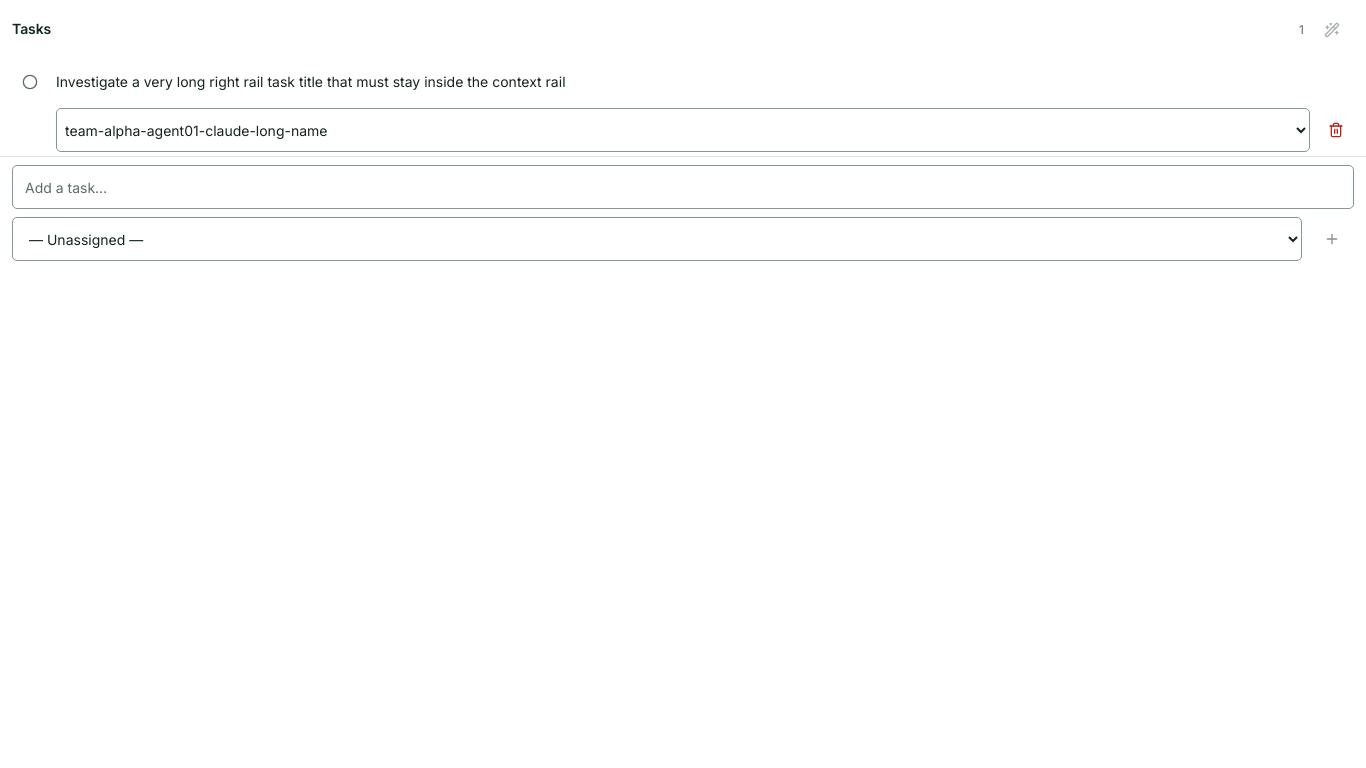
TasksSection detail dialog › saves an edited title from the dialog
Click the button with aria-label "Open Investigate a very long right rail task title that must": (311, 82) [56, 60, 1358, 104]
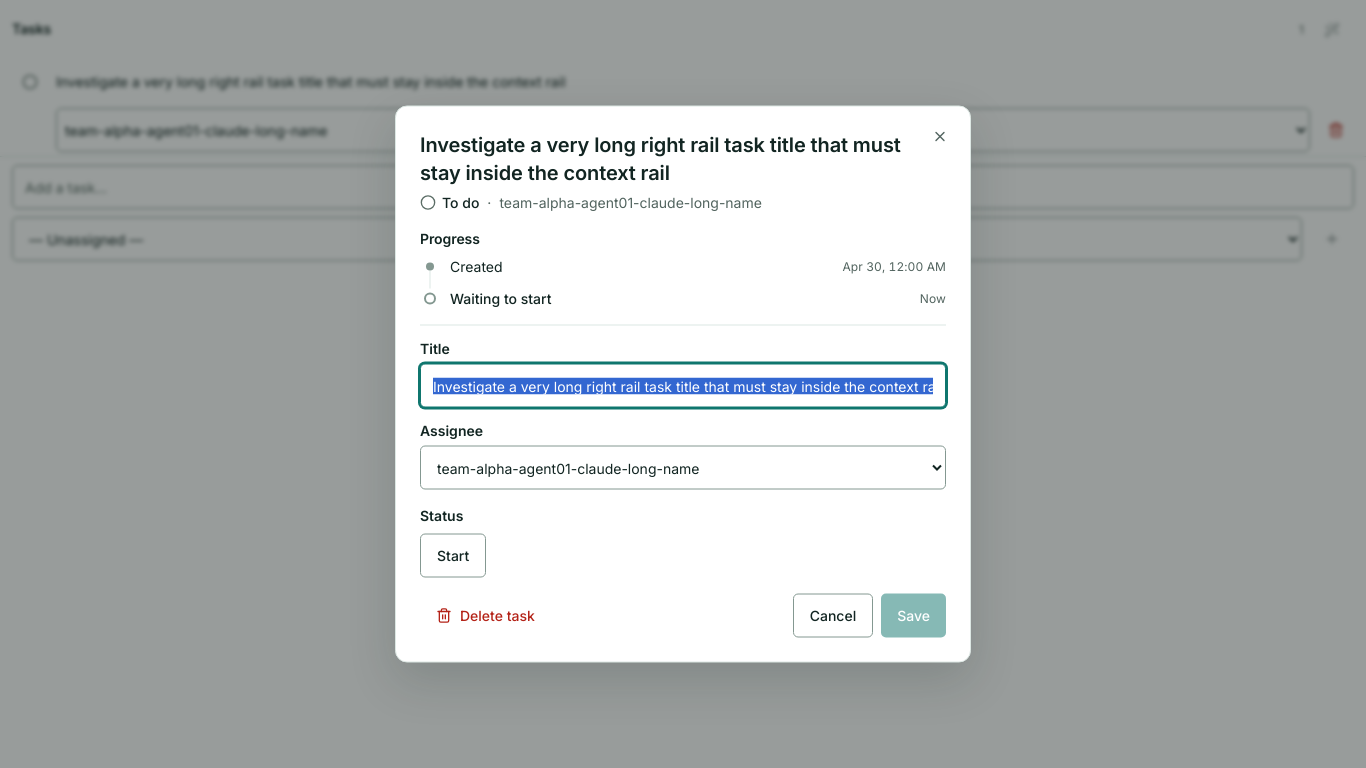
Expected: the button with test id "right-rail-task-dialog-save" is disabled, [881, 594, 946, 638]
Replace the text in the field with test id "right-rail-task-dialog-title" with "Renamed task": (683, 386) [420, 364, 946, 408]
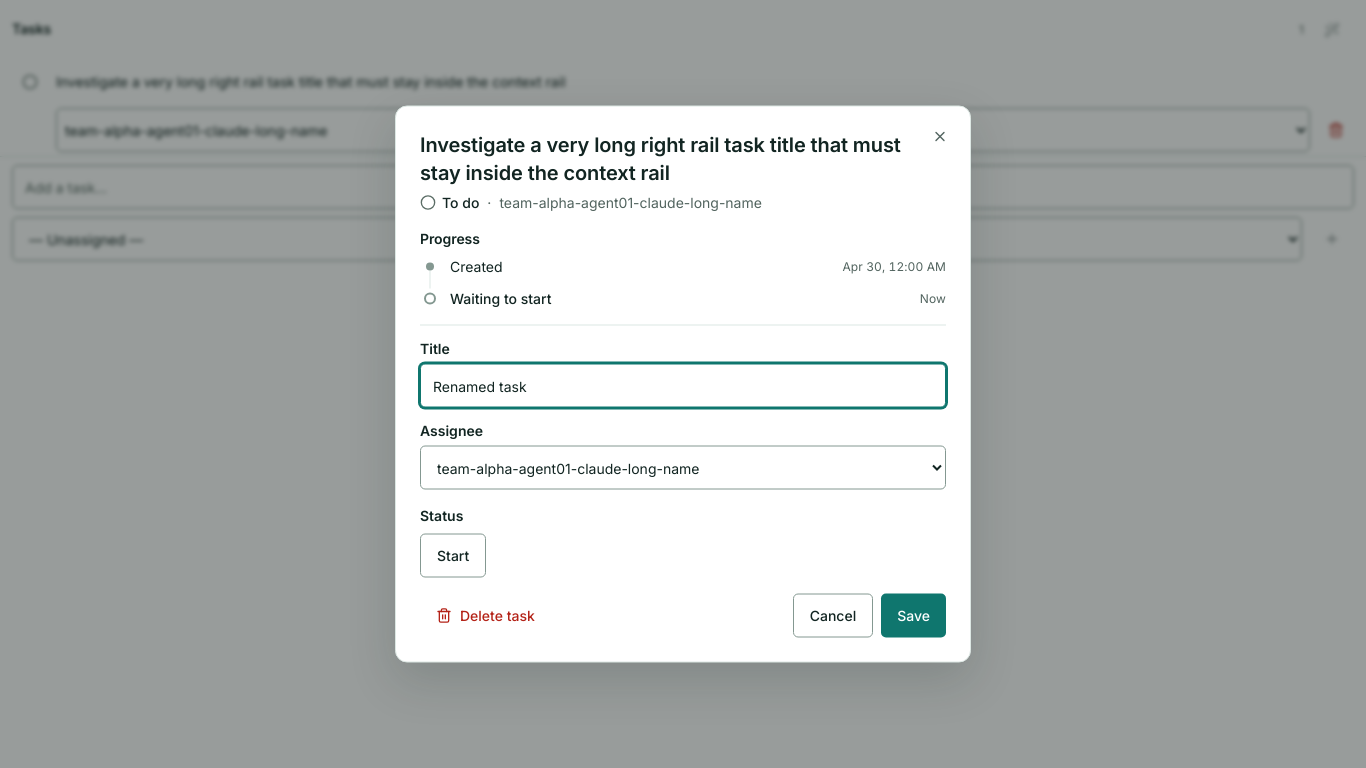
Click the button with test id "right-rail-task-dialog-save": (914, 616) [881, 594, 946, 638]
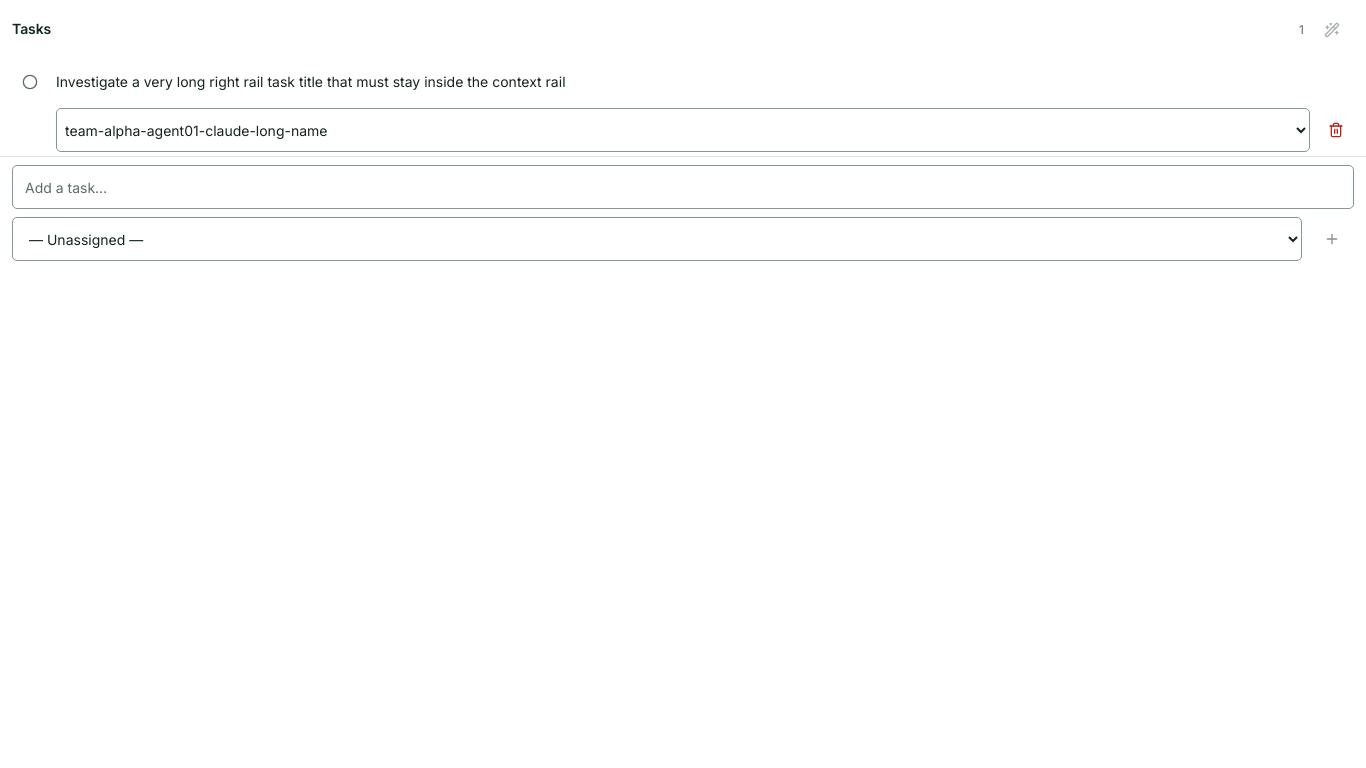
Expected: the dialog with test id "right-rail-task-dialog-task-1" is gone
